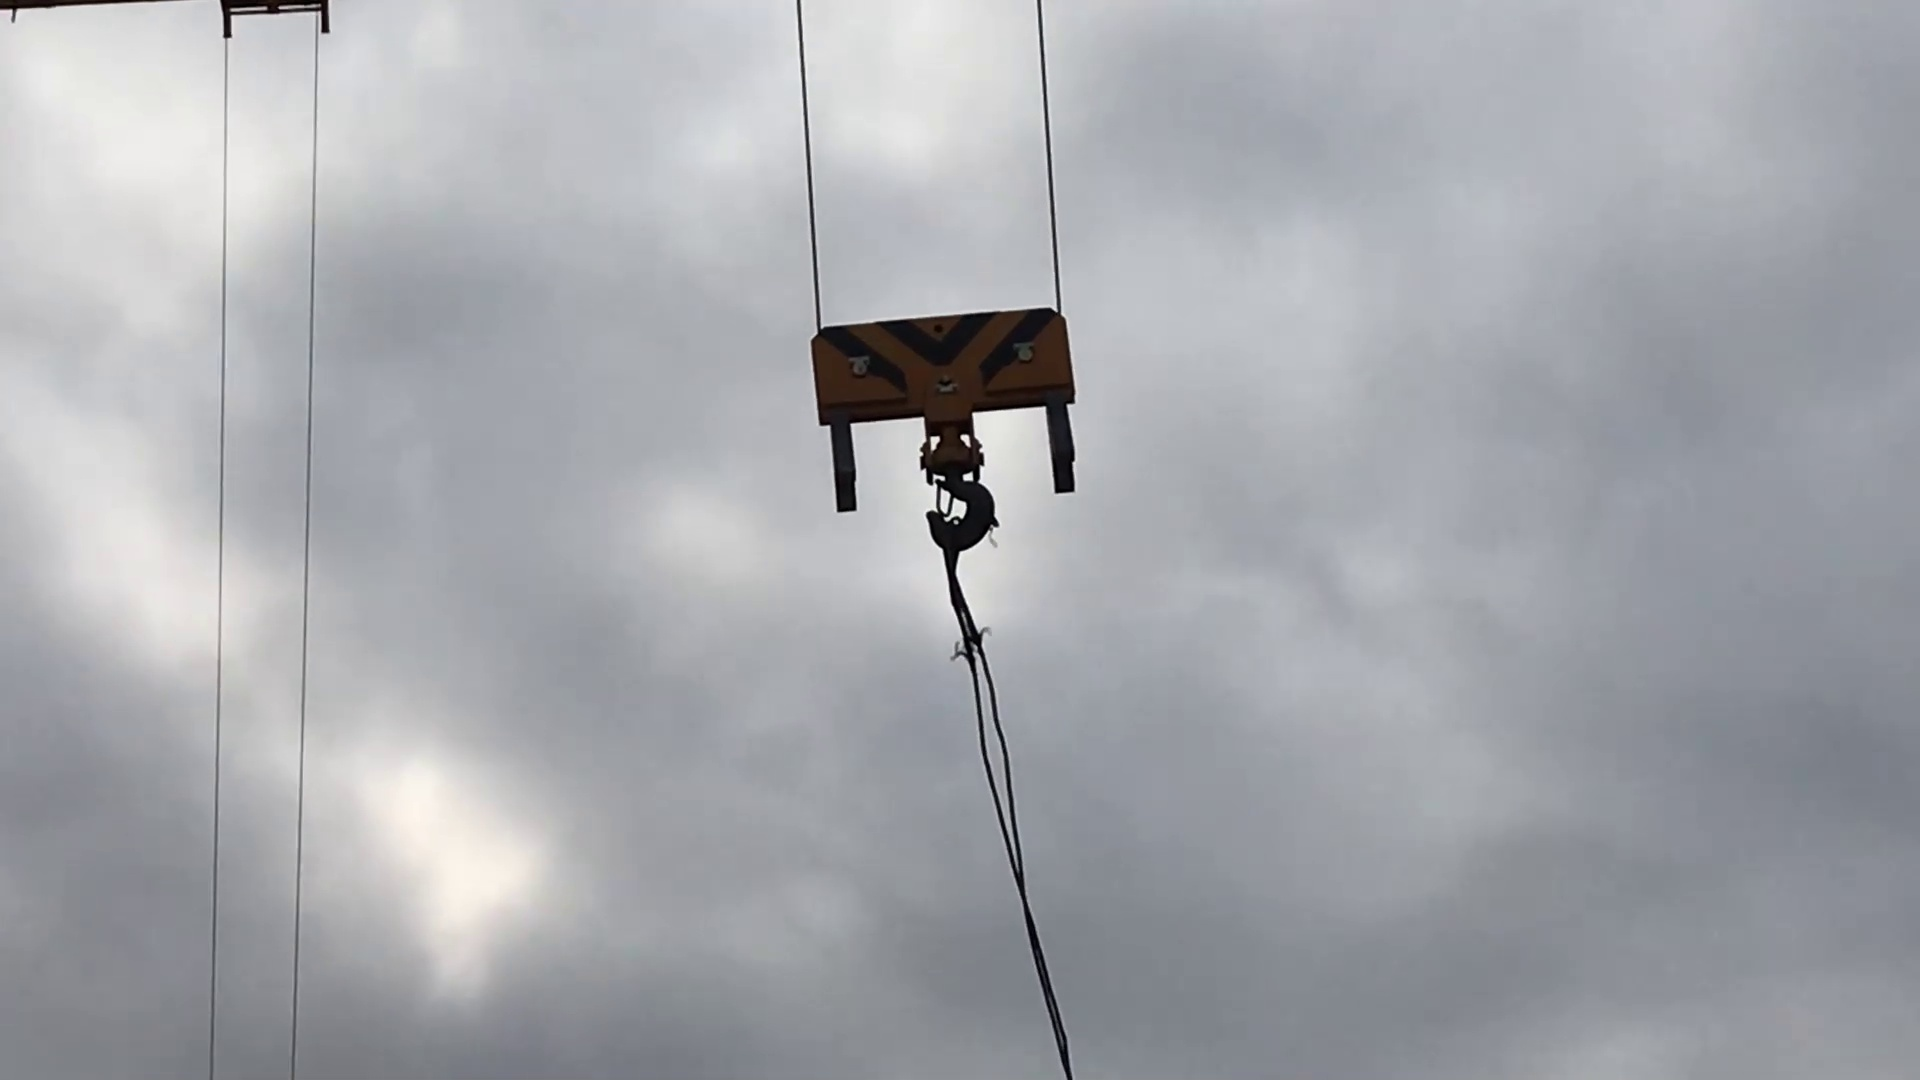hook: (785, 313, 1098, 547)
